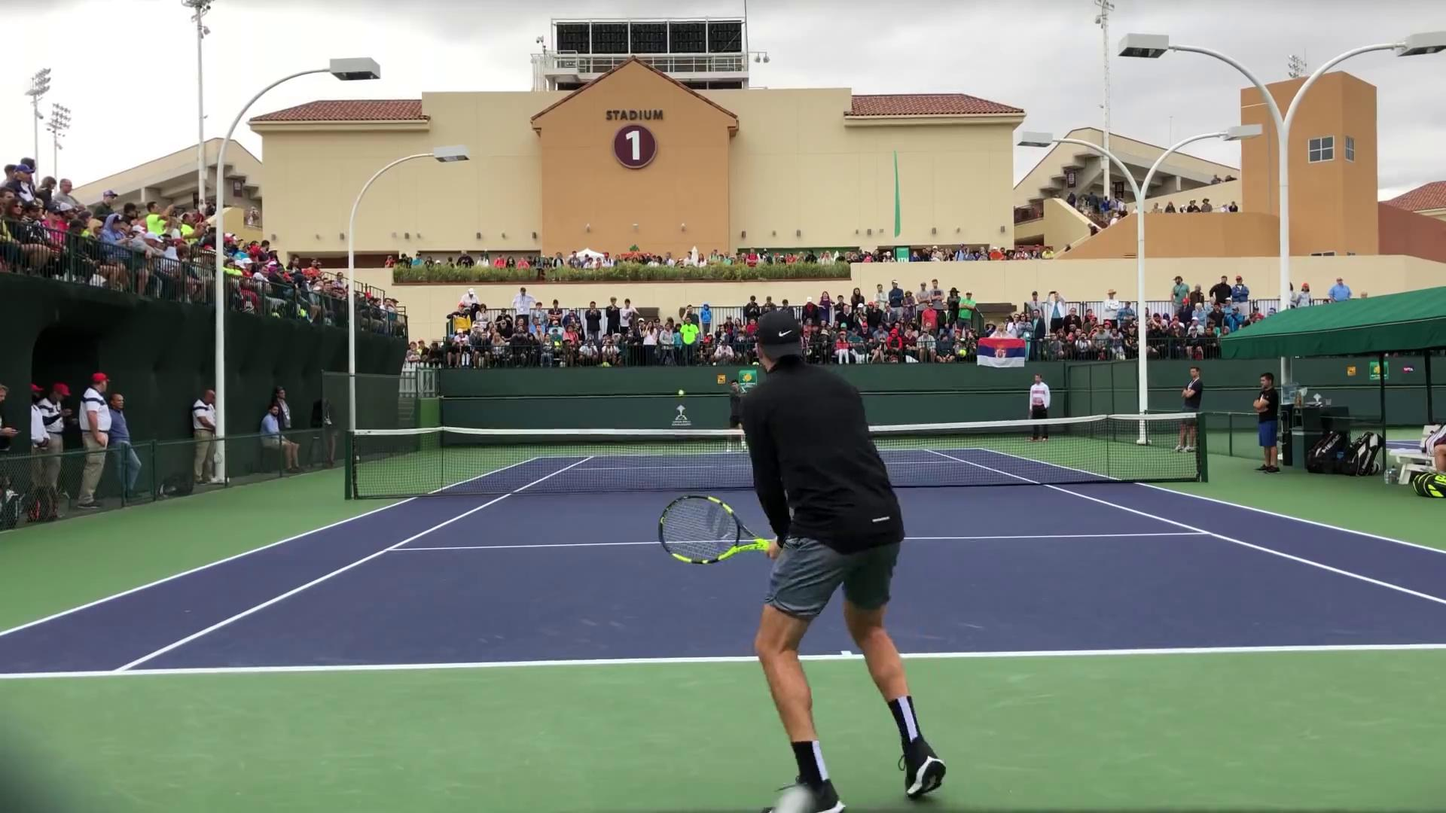ball: (678, 388, 685, 395)
